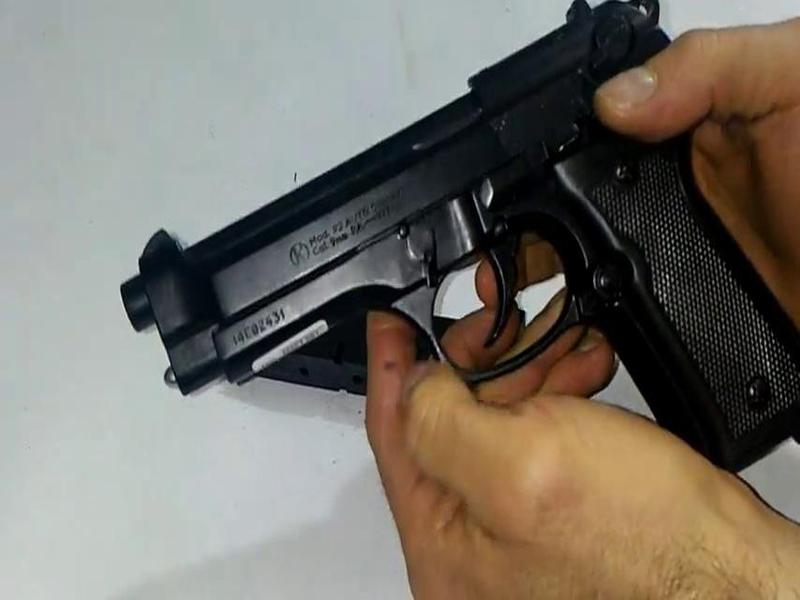Pistola: (88, 1, 800, 491)
